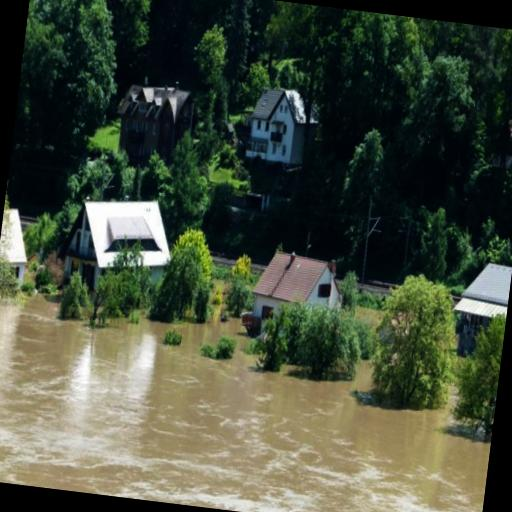flood: (0, 296, 491, 512)
house: (60, 183, 186, 305), (239, 83, 317, 179), (116, 78, 198, 166), (247, 244, 336, 322), (450, 256, 512, 358), (0, 201, 36, 296)
